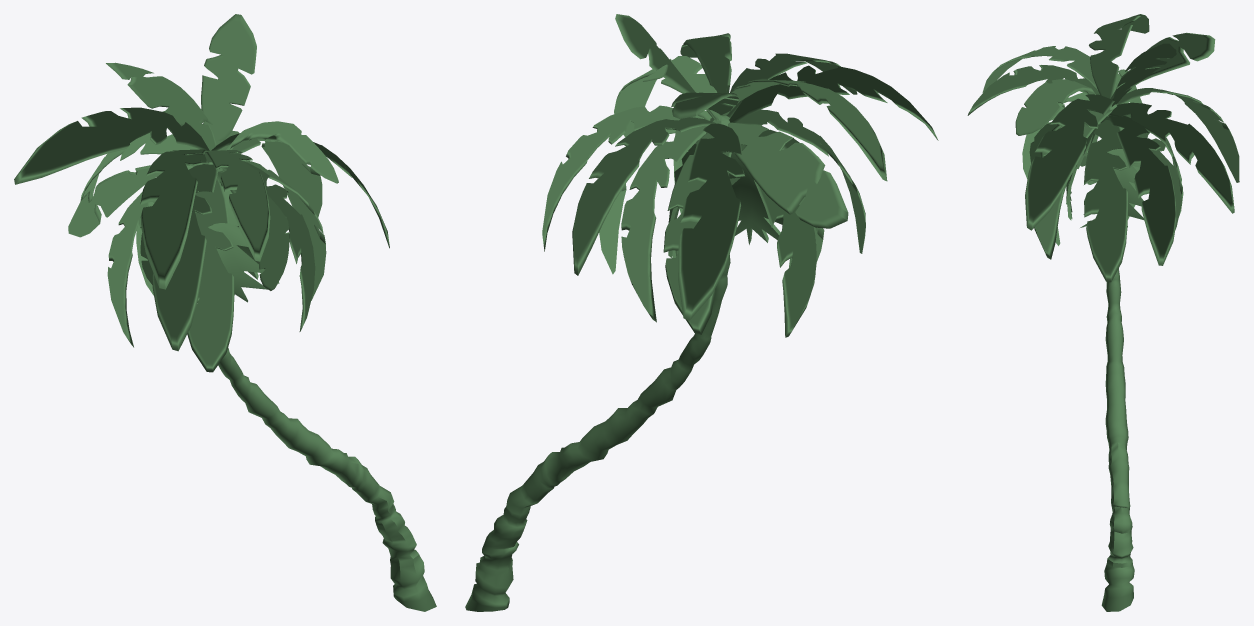
The model's file is palm_tree_03_03_05_uv_export.fbx.
3 renders of one model, left to right at view 1: azimuth 30°, elevation 25°; view 2: azimuth 150°, elevation 25°; view 3: azimuth 270°, elevation 25°, orthographic. The views are drawn at different scales.
Visible parts, largest first — view 1: Palm_tree_03_3_05_uv_export; view 2: Palm_tree_03_3_05_uv_export; view 3: Palm_tree_03_3_05_uv_export.
Boxes of the visible parts, bbox=[...] form: Palm_tree_03_3_05_uv_export: bbox=[14, 14, 436, 611]; Palm_tree_03_3_05_uv_export: bbox=[465, 14, 938, 611]; Palm_tree_03_3_05_uv_export: bbox=[967, 14, 1239, 611].
Size of the model in its own units: 26.99 by 38.83 by 19.03.
